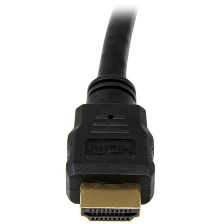hdmi_male: (63, 98, 163, 194)
